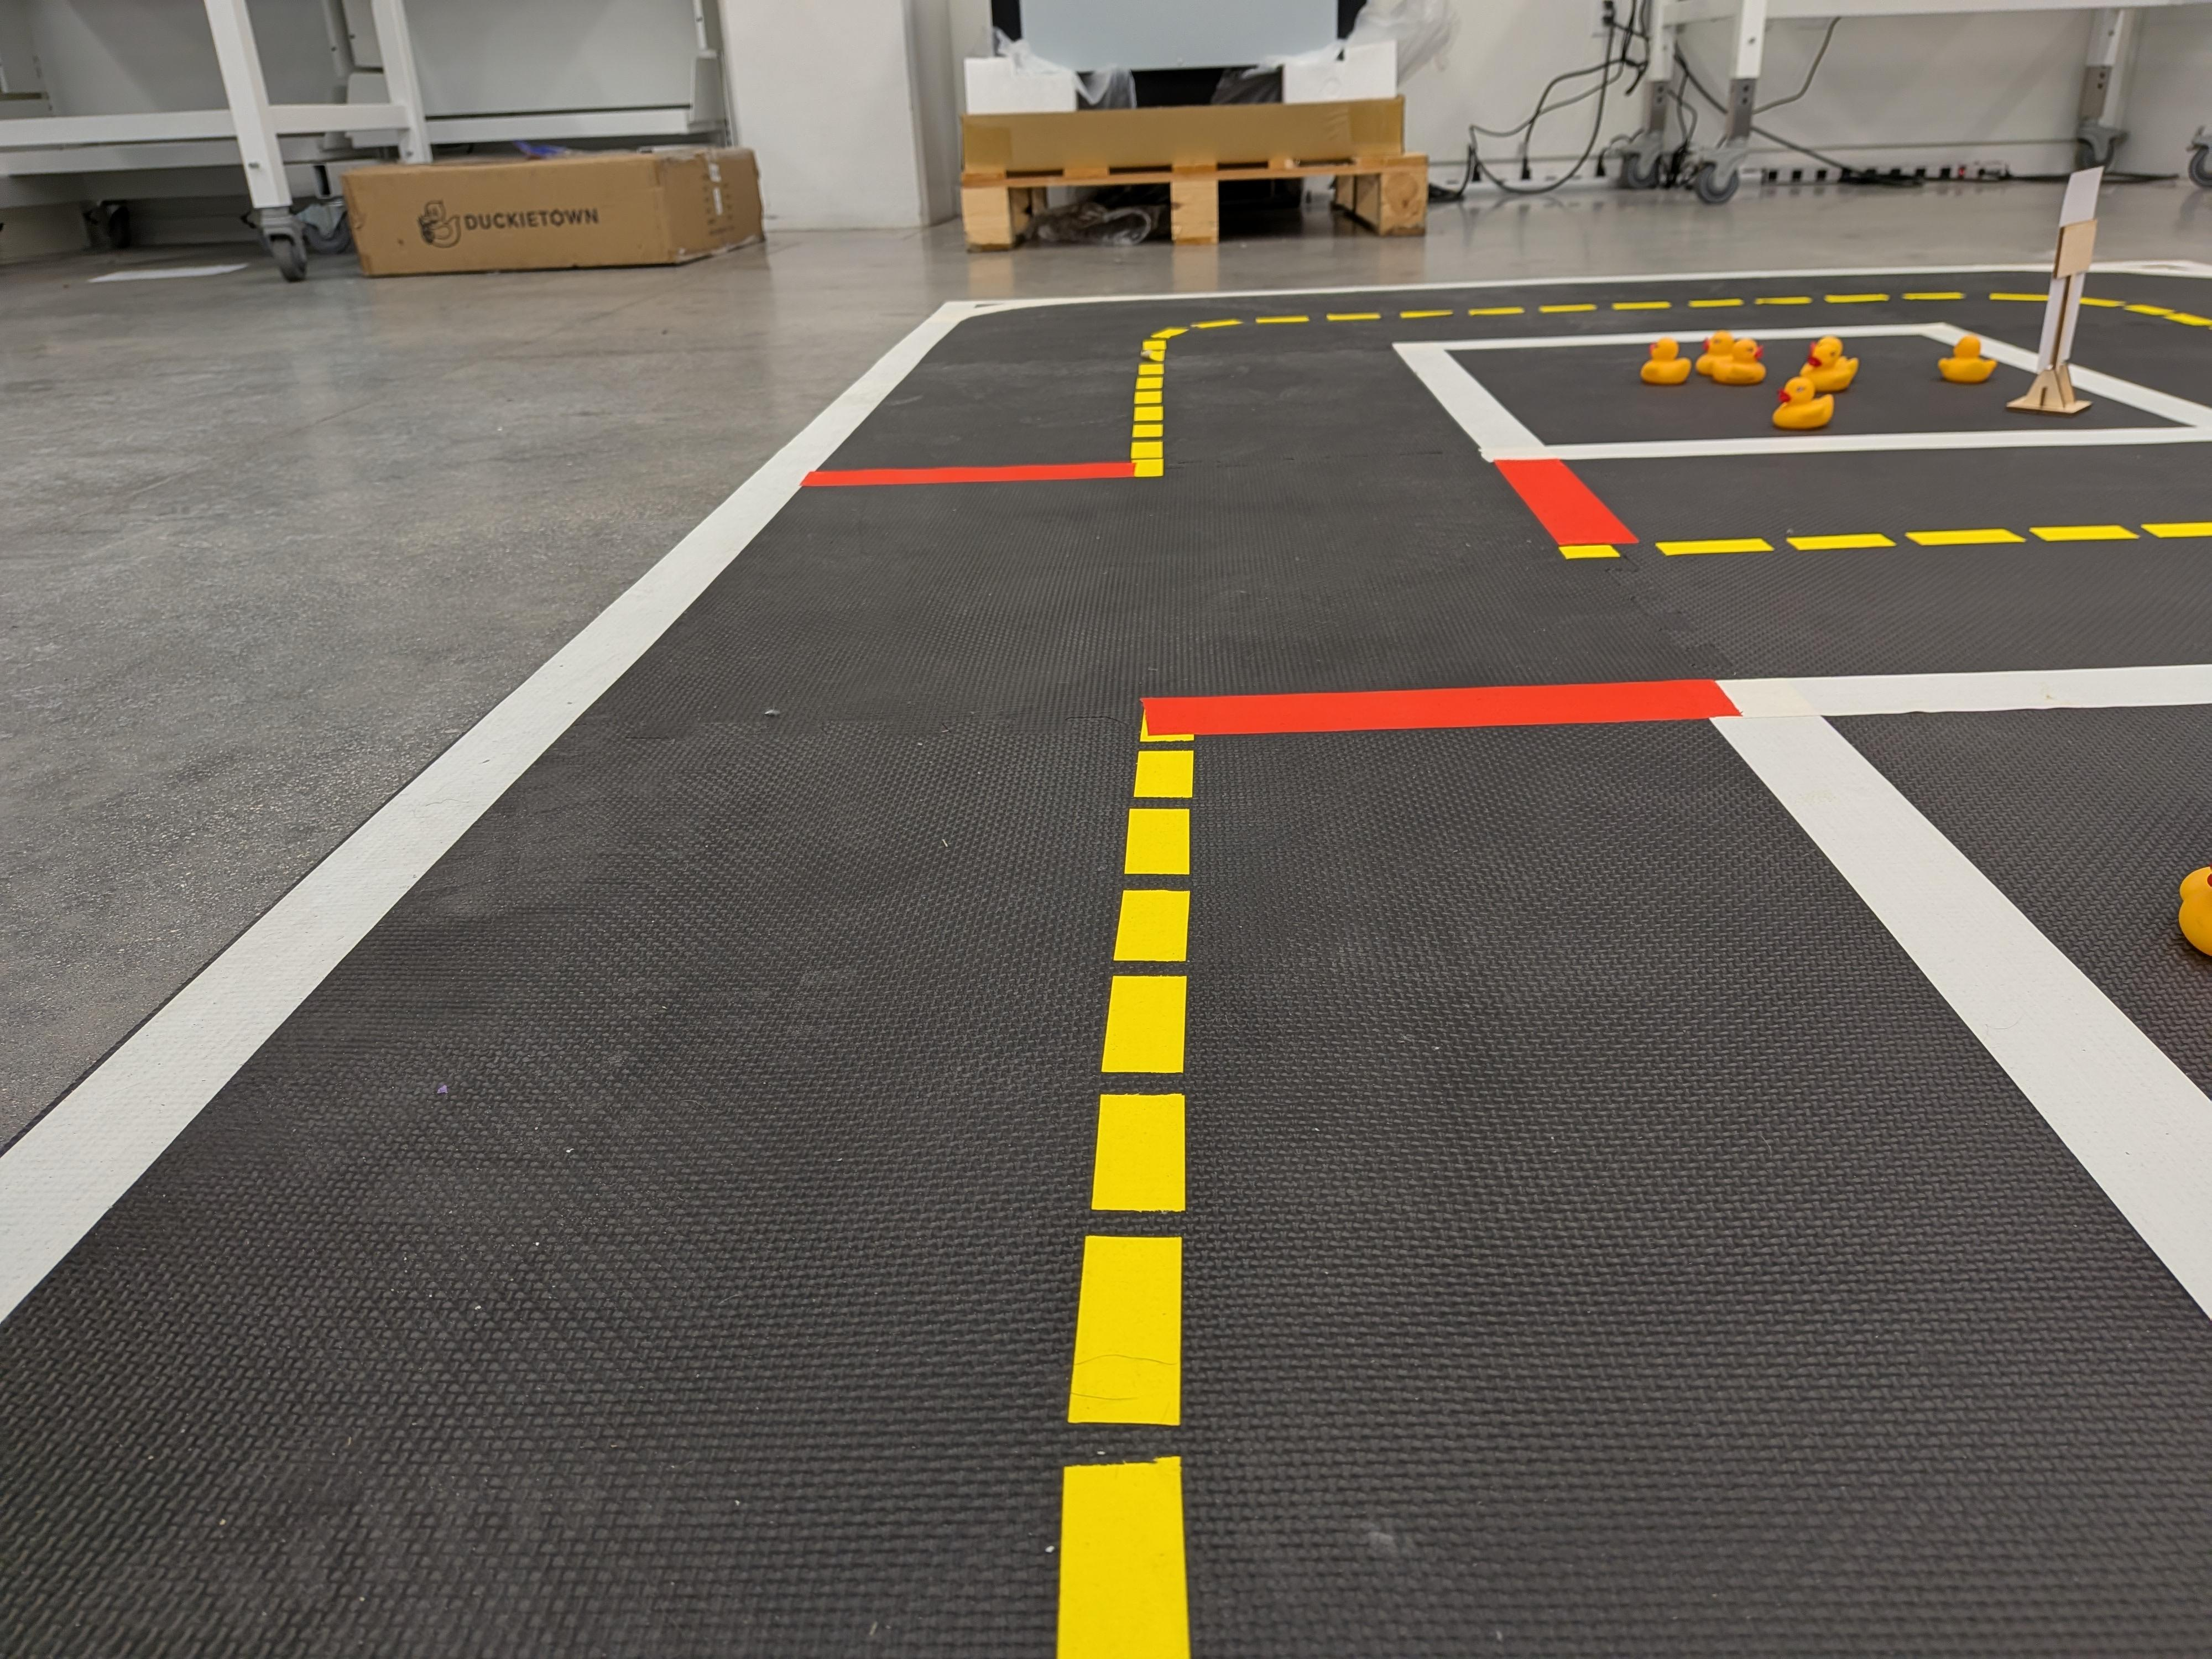peasant: (2173, 848, 2212, 973), (1932, 327, 1998, 390), (1768, 375, 1834, 432), (1632, 336, 1692, 392), (1799, 337, 1859, 391), (1709, 341, 1774, 384), (1698, 330, 1740, 380)
stopbar: (1143, 679, 1744, 730), (796, 459, 1139, 507), (1491, 457, 1637, 546)
whiteline: (4, 242, 968, 1334), (1703, 719, 2212, 1327), (944, 260, 2212, 317), (1928, 314, 2212, 431), (1489, 424, 2212, 464), (1720, 664, 2212, 719), (1388, 339, 1547, 463), (1384, 321, 1939, 352)
yellowline: (1065, 737, 1188, 1659), (1149, 291, 2075, 336), (1550, 521, 2212, 560), (2072, 289, 2212, 341), (1132, 321, 1167, 481)
